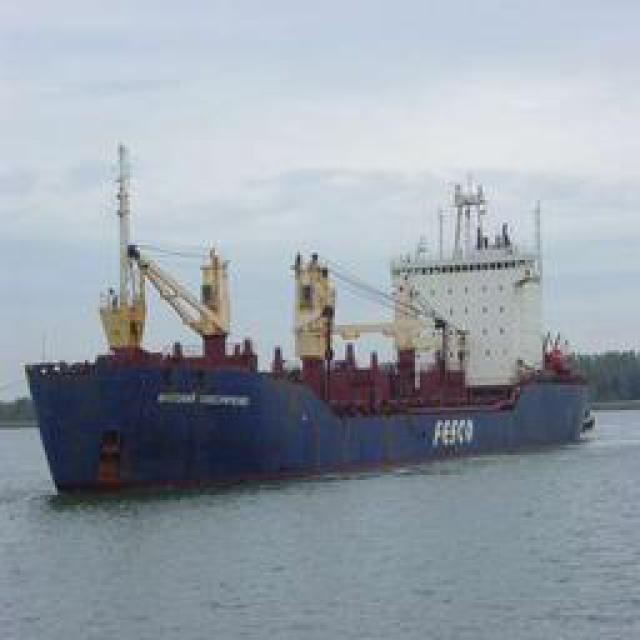Ship: (19, 148, 603, 502)
